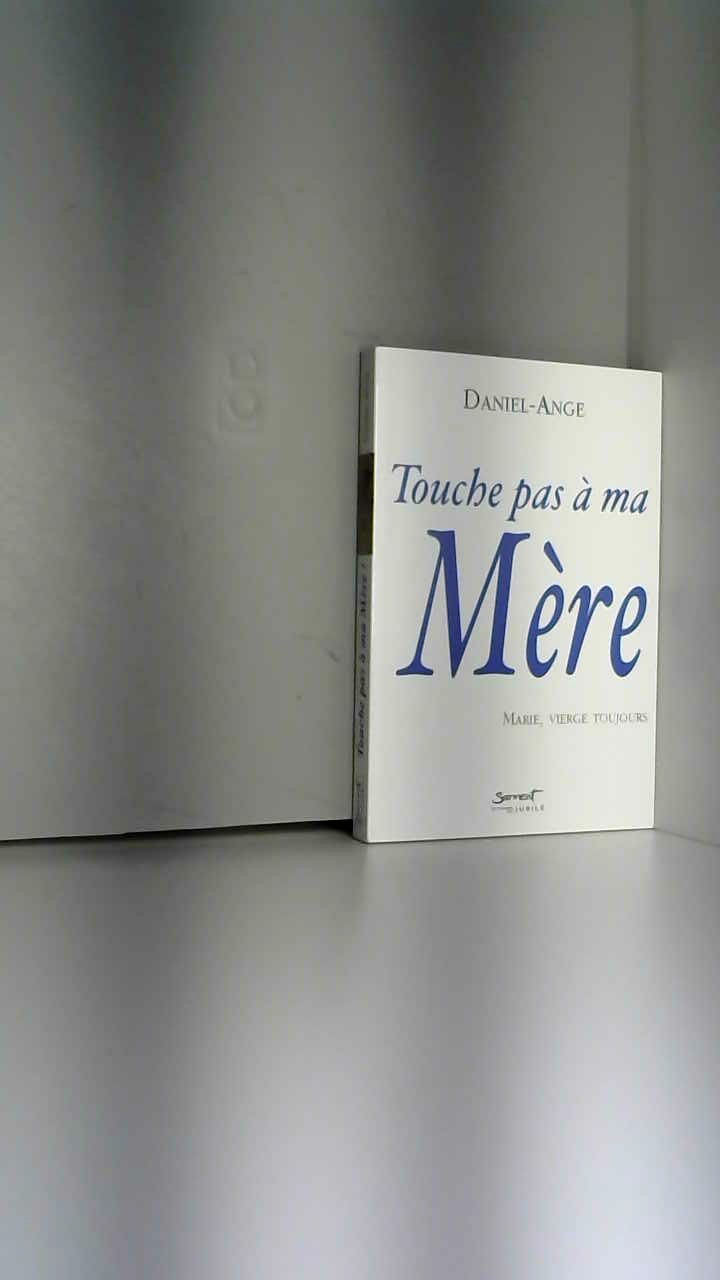book: (320, 320, 715, 868)
